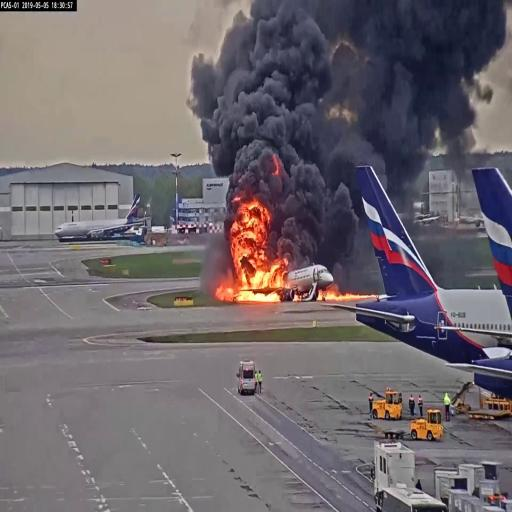fire: (228, 209, 262, 298), (261, 257, 292, 296)
smoke: (216, 0, 508, 152), (206, 0, 328, 184)
